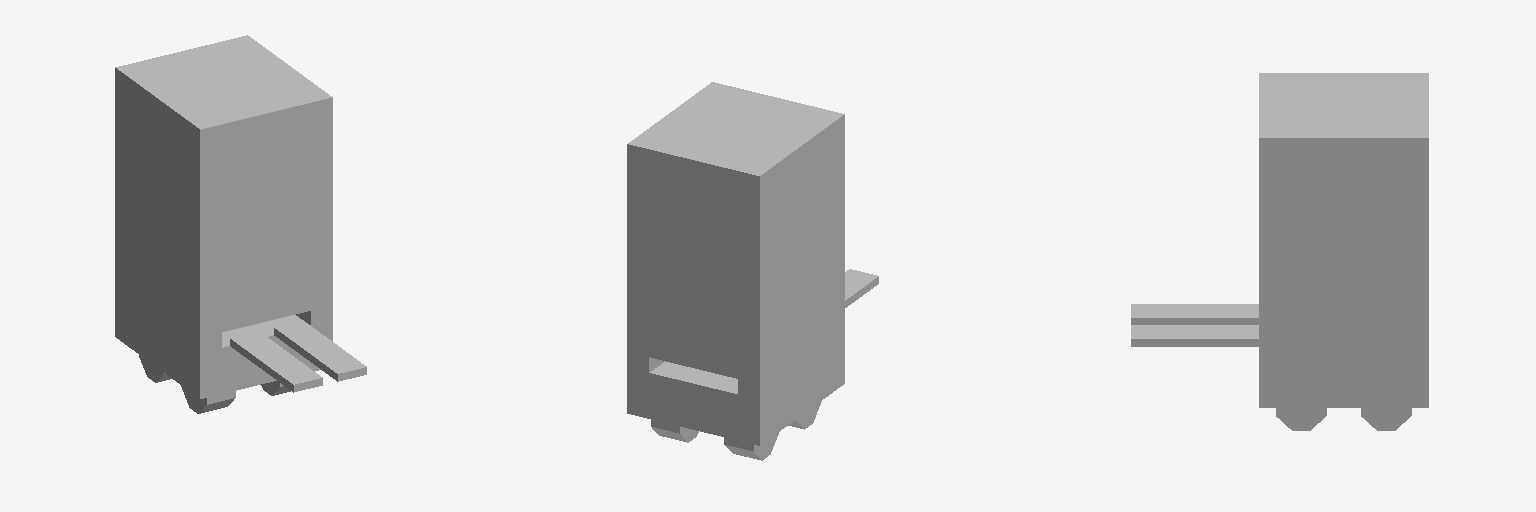
File: forklift w arms.obj
3 views of the same model, side by side, from view 1: azimuth 30°, elevation 25°; view 2: azimuth 150°, elevation 25°; view 3: azimuth 270°, elevation 25° (orthographic).
Parts seen in each view (by area): view 1: forklift w arms; view 2: forklift w arms; view 3: forklift w arms.
Boxes of the visible parts, <box> form: forklift w arms: <box>115,35,366,413</box>; forklift w arms: <box>627,82,878,460</box>; forklift w arms: <box>1131,73,1428,430</box>.
Bounding box in the file's own units: 4.5 × 9.75 × 8.75.